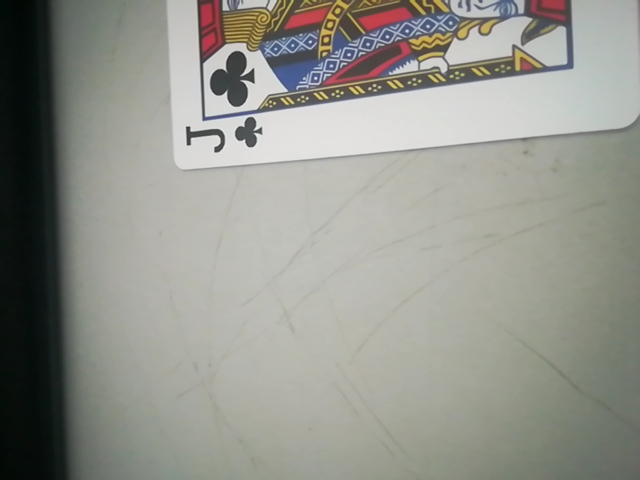mh j: (153, 2, 637, 181)
